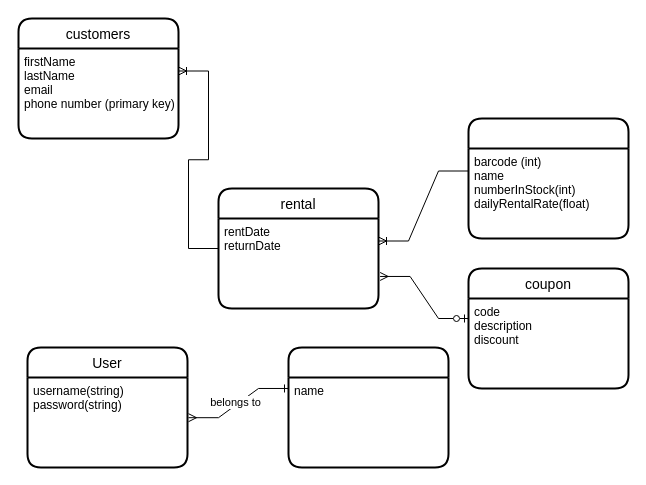
Some shapes in this 646 by 485 pixel diagram are drawn without their labels. The shapes that lost their labels are listed below. From the top down, each one's box as (x1, y1, x2, y2) in pixels, then its label:
(467, 117, 629, 239): movies
(287, 346, 449, 468): role
